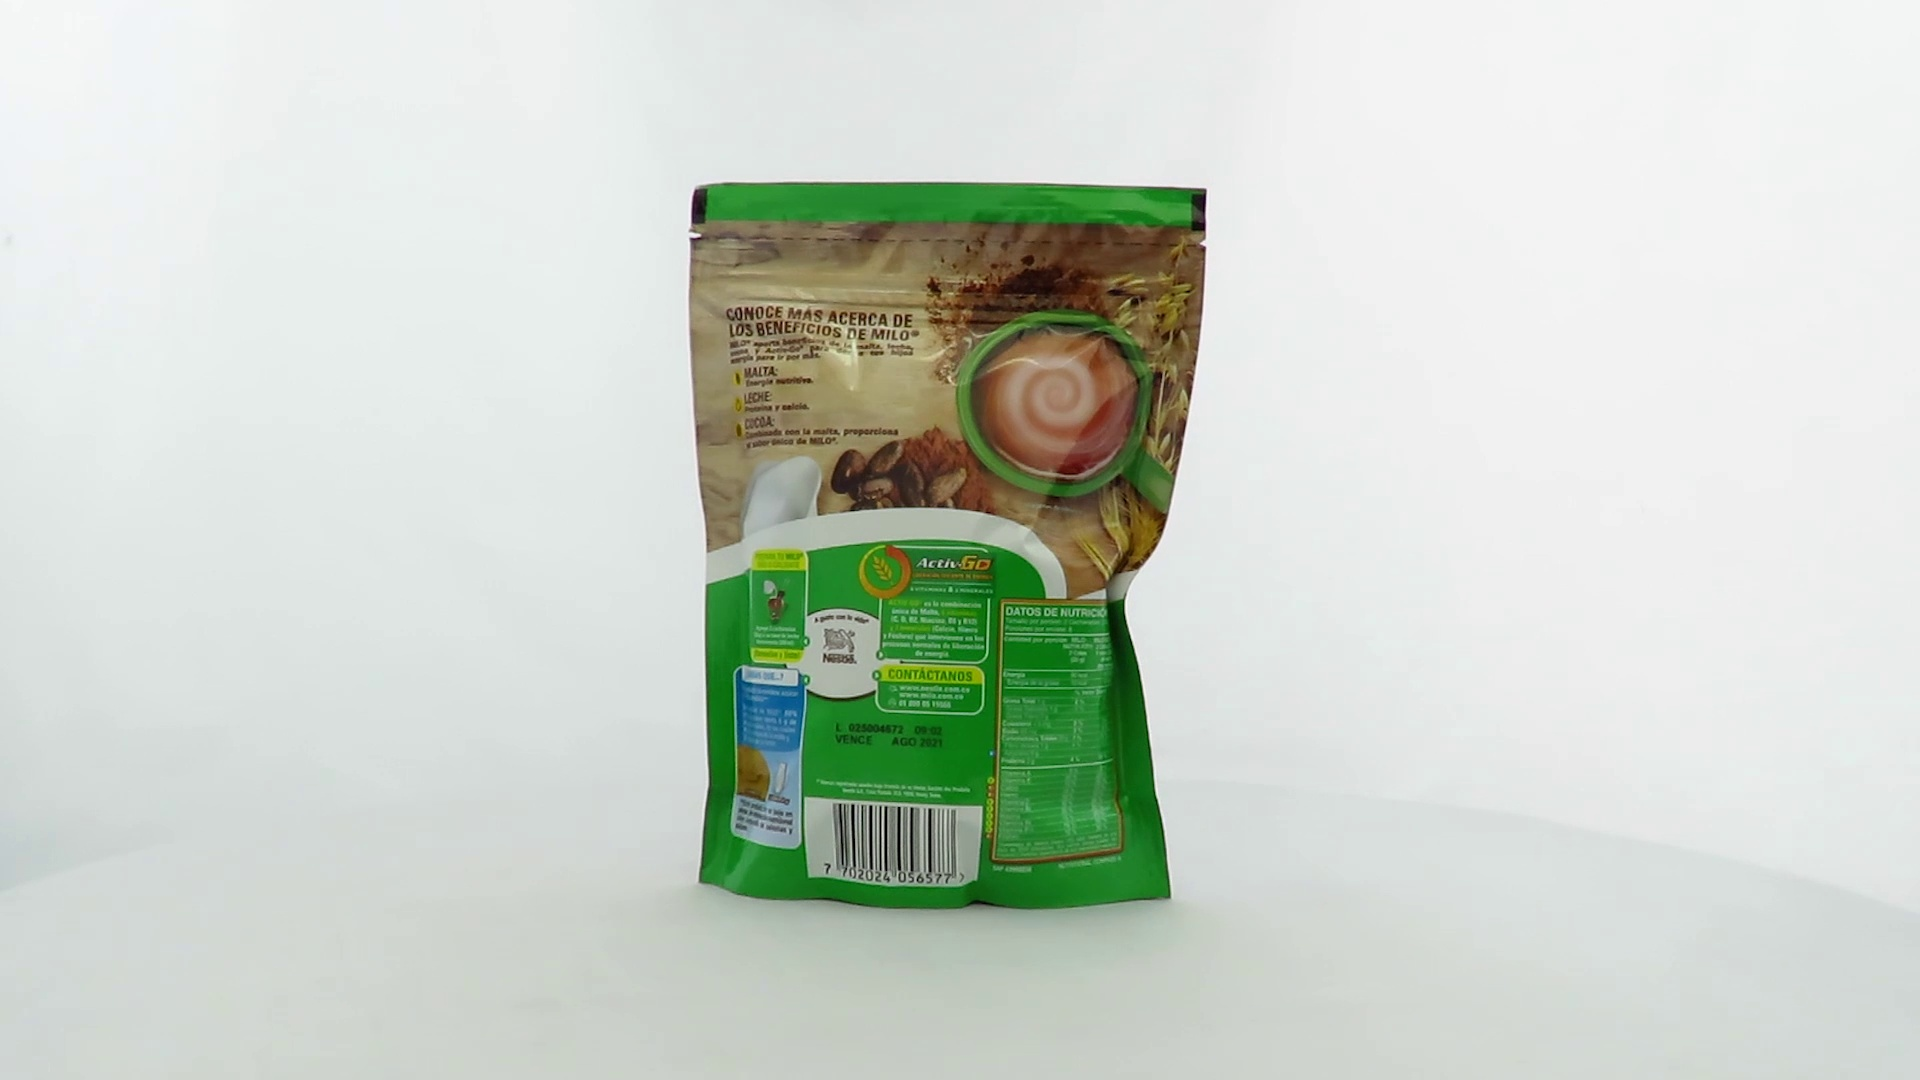COL0170205DYP20000: (683, 177, 1213, 916)
